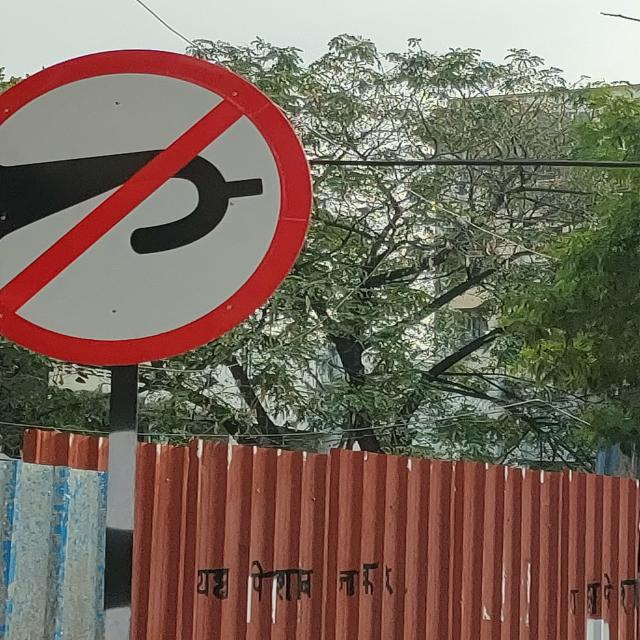HORN_PROHIBITED: (0, 50, 314, 368)
